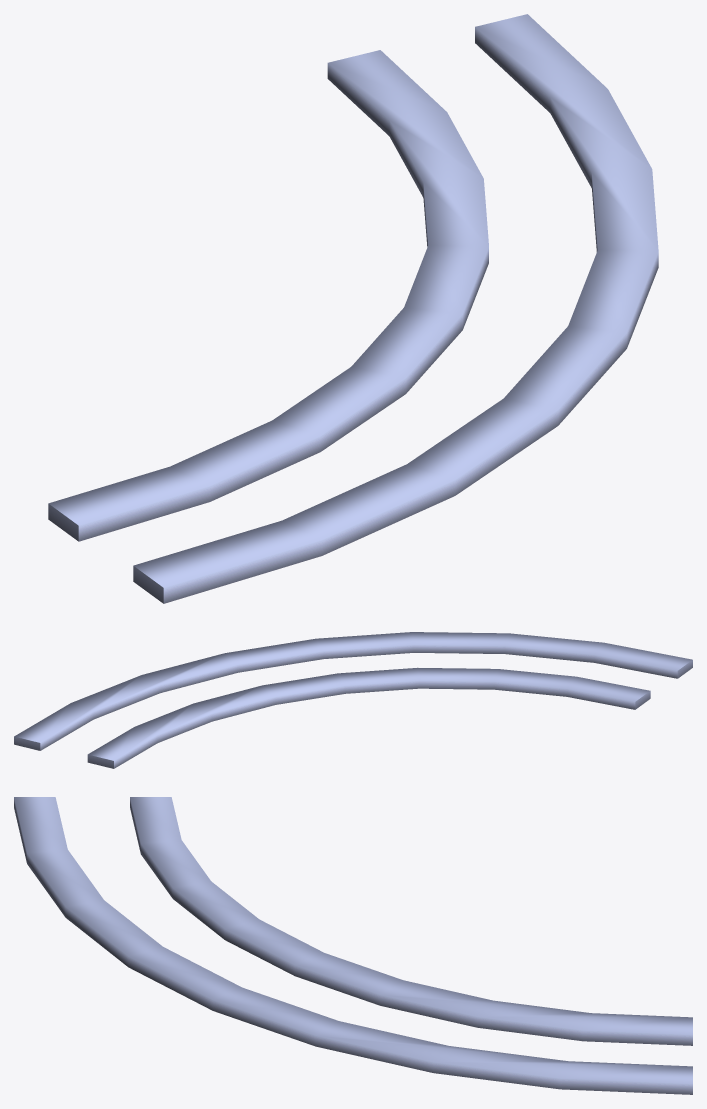
The model's file is kenney-holiday-trainset-rail-bend.glb.
The picture shows the model from 3 angles, top to bottom: view 1: azimuth 30°, elevation 25°; view 2: azimuth 150°, elevation 25°; view 3: azimuth 270°, elevation 25°; orthographic projection. The views are drawn at different scales.
Visible parts, largest first — view 1: Group; view 2: Group; view 3: Group.
Boxes of the visible parts, box(x1,y1,x2,y2) form: Group: box(48, 14, 658, 603); Group: box(14, 632, 692, 768); Group: box(14, 797, 692, 1094).
Size of the model in its own units: 0.8485 by 0.0151 by 0.8485.
Materials: 1 (1 with a texture image).
